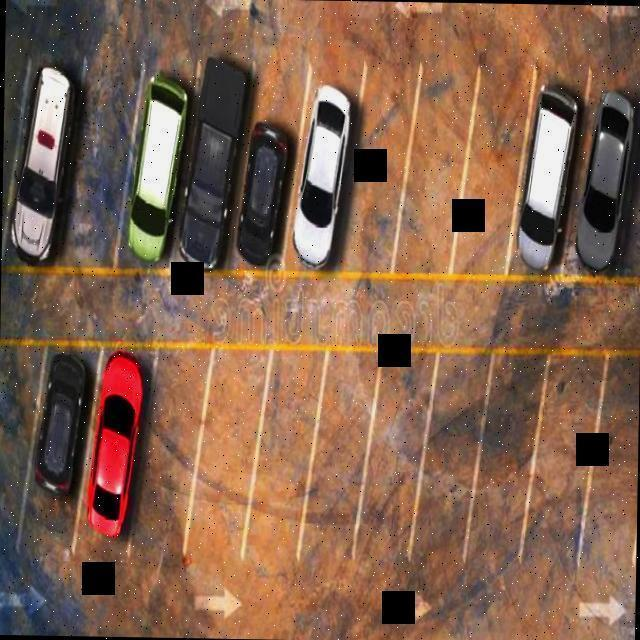space-empty: (514, 342, 615, 575), (456, 332, 553, 570), (118, 337, 219, 565), (384, 52, 484, 280), (403, 337, 498, 574), (50, 49, 145, 283), (324, 55, 423, 279), (179, 342, 275, 570), (347, 339, 444, 564), (238, 337, 330, 569), (292, 339, 387, 562), (446, 60, 540, 279), (575, 356, 639, 572), (0, 340, 51, 564)
space-occupied: (219, 51, 313, 288), (551, 53, 640, 299), (497, 59, 593, 287), (163, 49, 255, 286), (10, 331, 105, 558), (106, 59, 202, 282), (275, 59, 370, 279), (69, 342, 162, 562), (1, 55, 87, 289)
